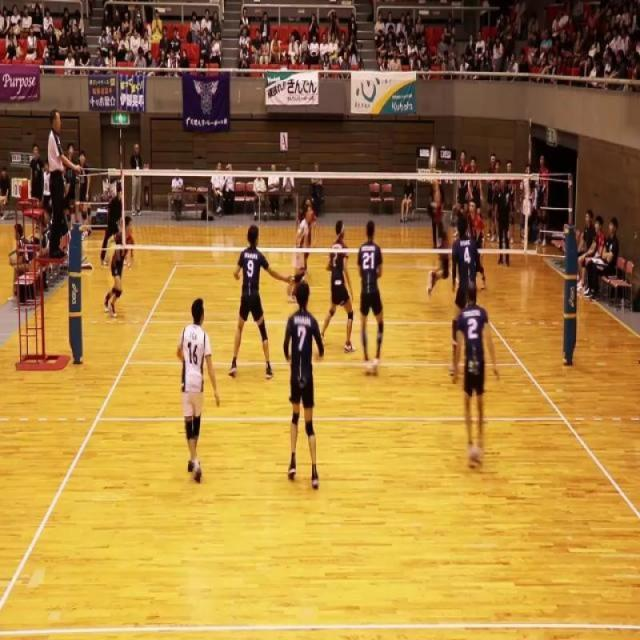volleyball: (428, 144, 437, 174)
